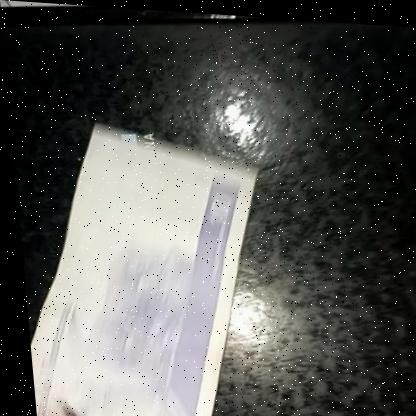ten-back-vef: (10, 138, 272, 416)
